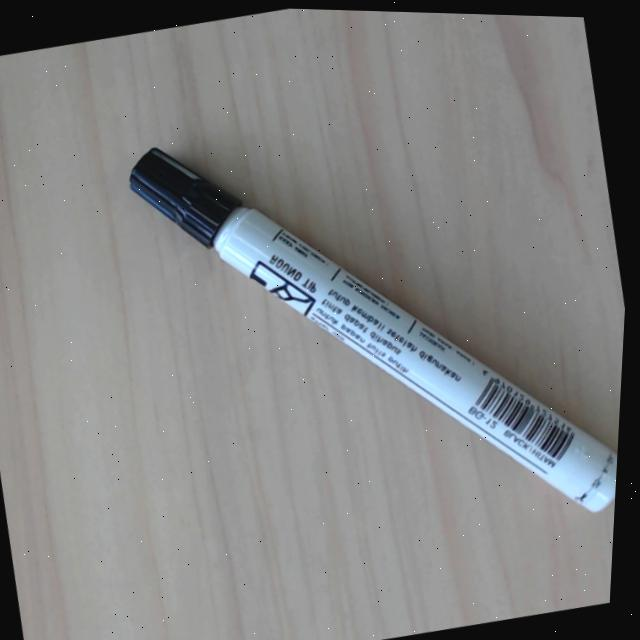Marker-Pen: (117, 139, 636, 520)
